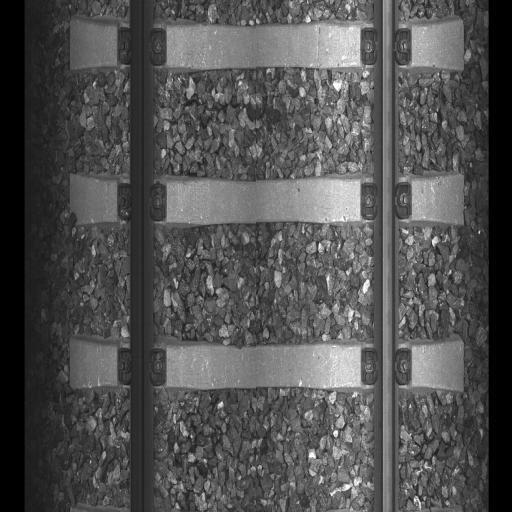sleeper: (69, 332, 465, 391), (70, 18, 466, 73), (70, 173, 465, 224)
